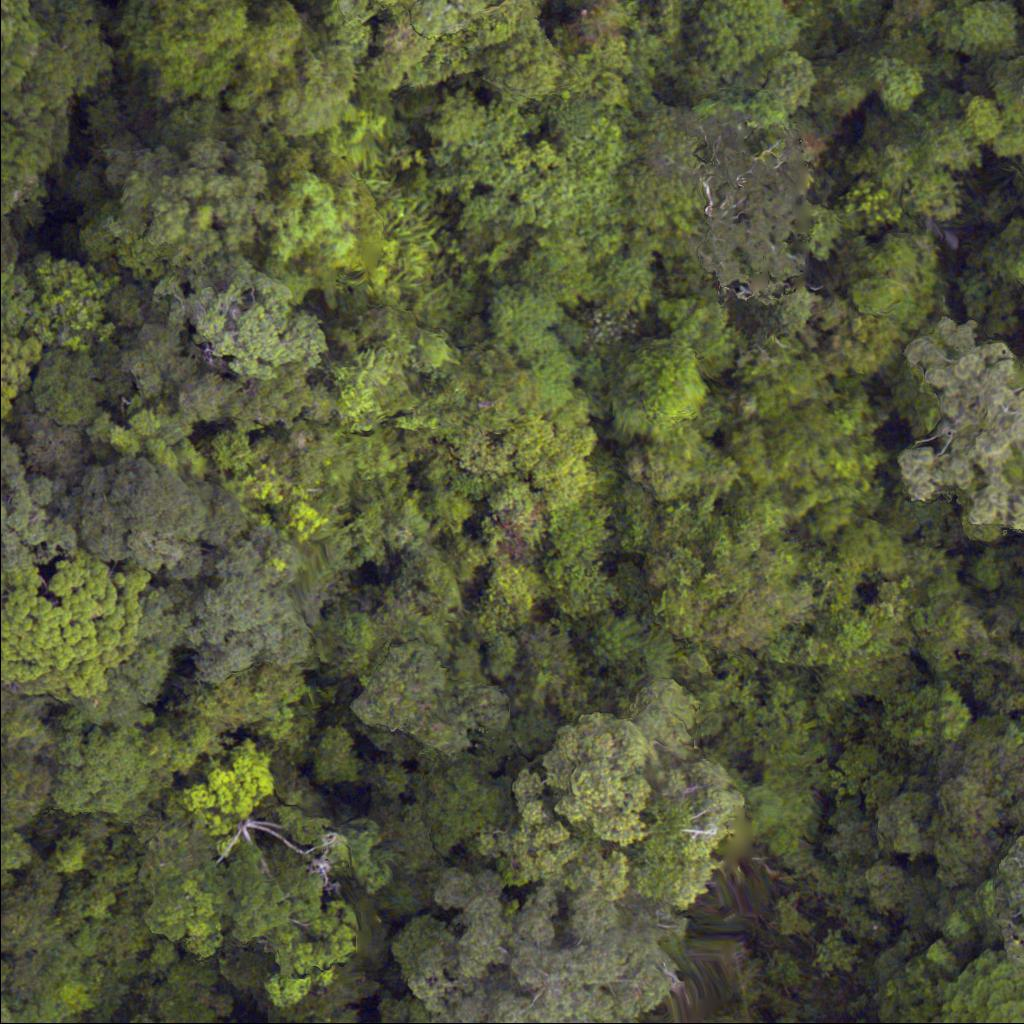crown: (507, 687, 770, 917), (397, 858, 677, 1023), (619, 94, 837, 303), (143, 812, 388, 961), (884, 323, 1023, 562), (148, 501, 326, 685), (77, 121, 273, 280), (61, 429, 278, 568), (0, 557, 153, 708), (603, 337, 713, 452), (0, 434, 72, 560), (980, 837, 1023, 968), (0, 330, 43, 415)
